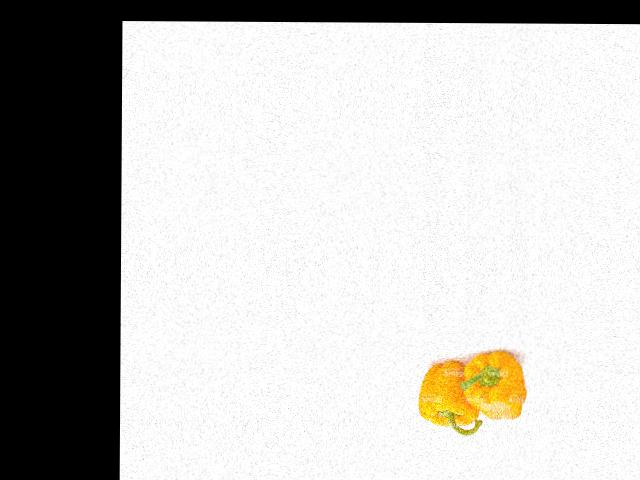bell_pepper: (417, 360, 485, 433)
